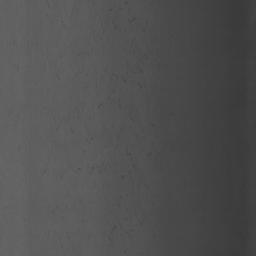Silk spot: (237, 232, 248, 240)
